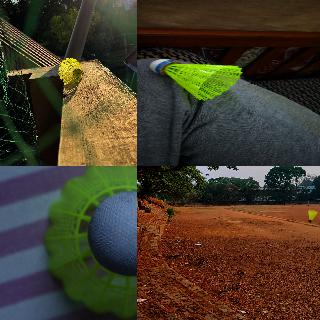shuttlecock: (43, 166, 136, 318), (150, 59, 242, 100), (58, 57, 82, 83), (308, 210, 316, 222)
